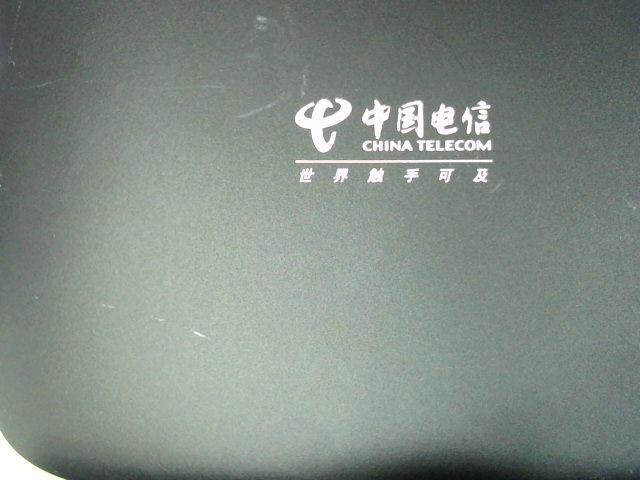AB_ChinaTelecom: (281, 94, 507, 189)
